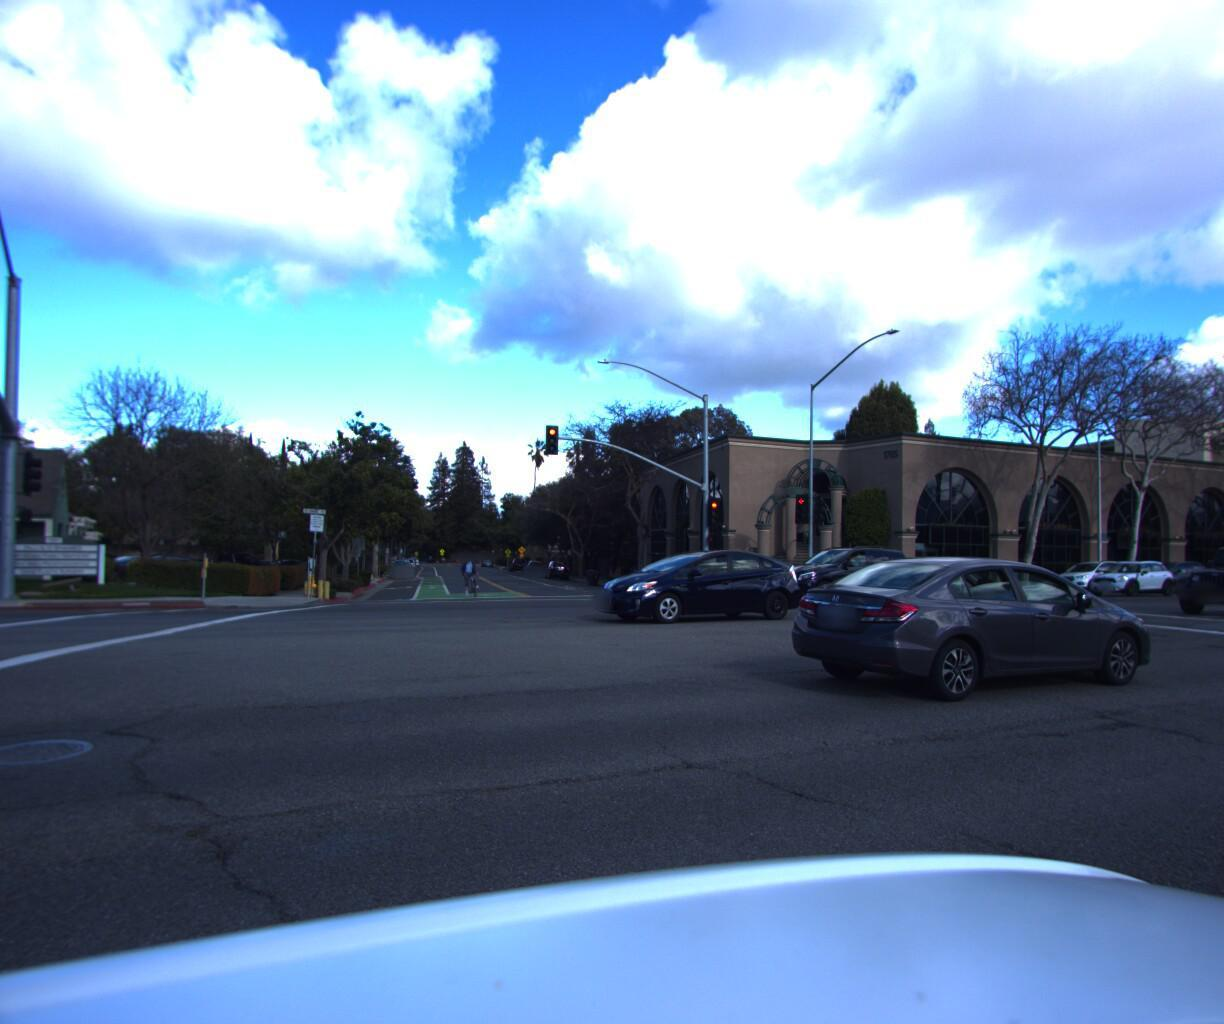bicycle: (456, 550, 482, 595)
car: (757, 548, 1168, 714), (583, 546, 813, 622), (760, 545, 917, 607), (1165, 542, 1224, 619), (1079, 556, 1179, 594), (1040, 555, 1133, 593), (542, 555, 569, 576), (389, 555, 415, 576), (523, 554, 544, 573)
